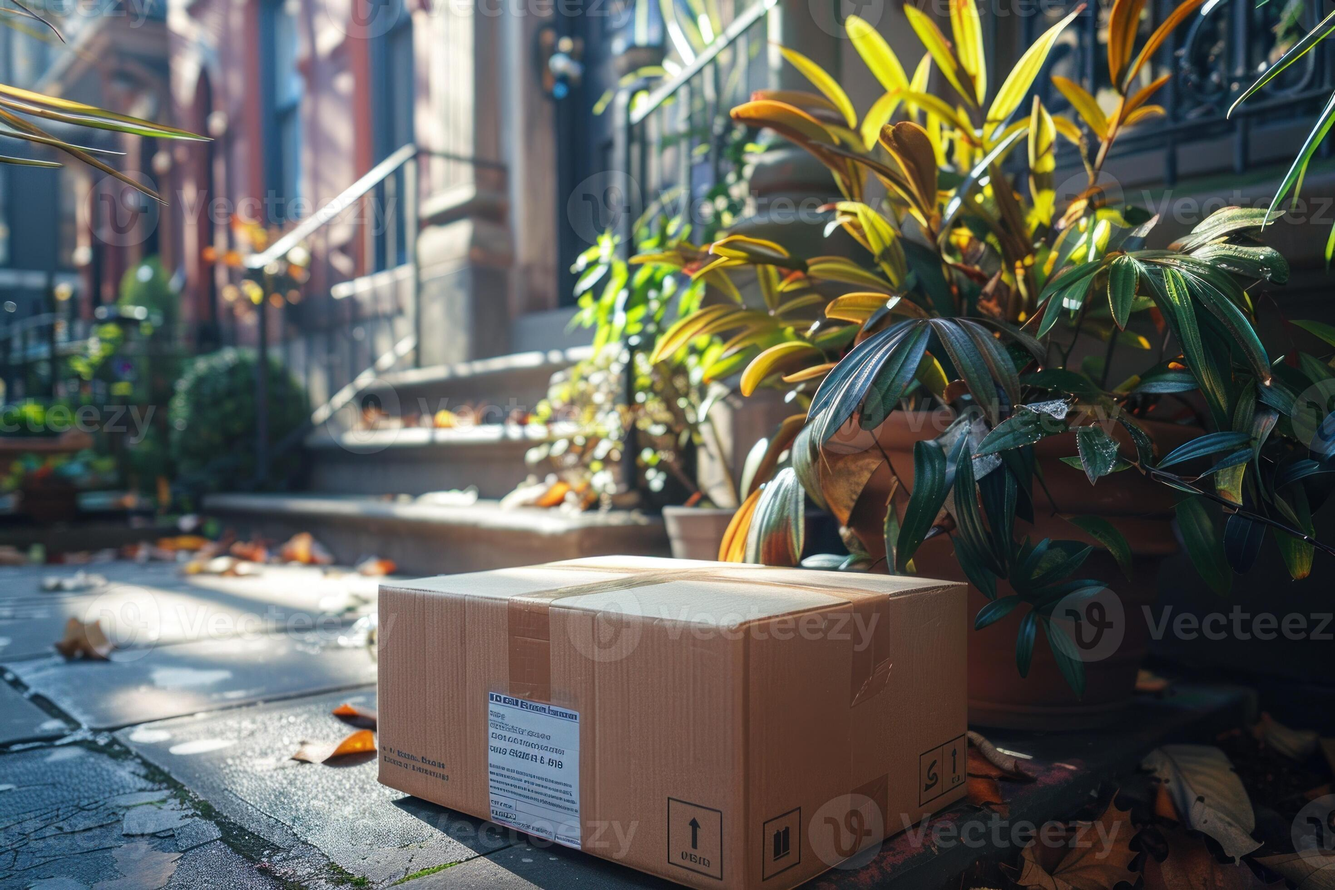DeliveryBox: (346, 524, 1018, 883)
